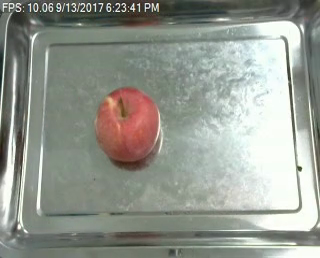Apple: (90, 82, 162, 164)
